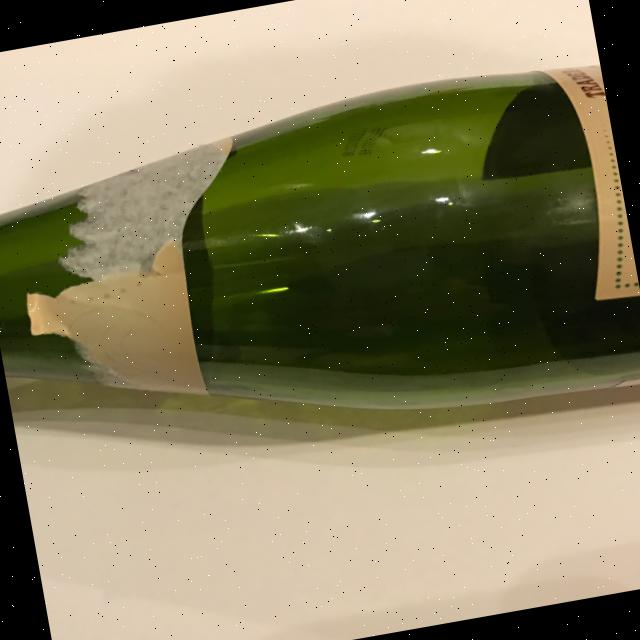glass: (0, 50, 640, 493)
